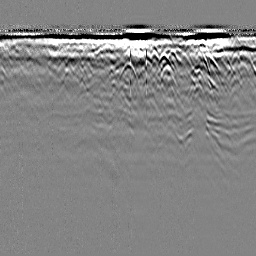cavity: (118, 58, 138, 81)
